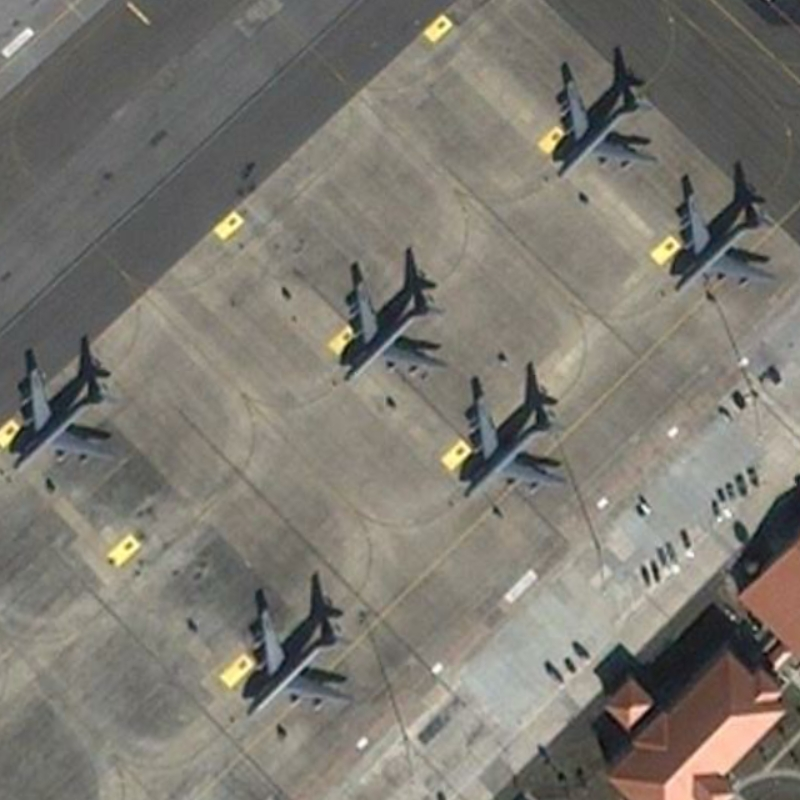A14: (237, 596, 360, 725), (9, 351, 132, 478), (458, 378, 576, 505), (666, 178, 786, 301), (337, 261, 454, 386), (549, 63, 665, 184)
